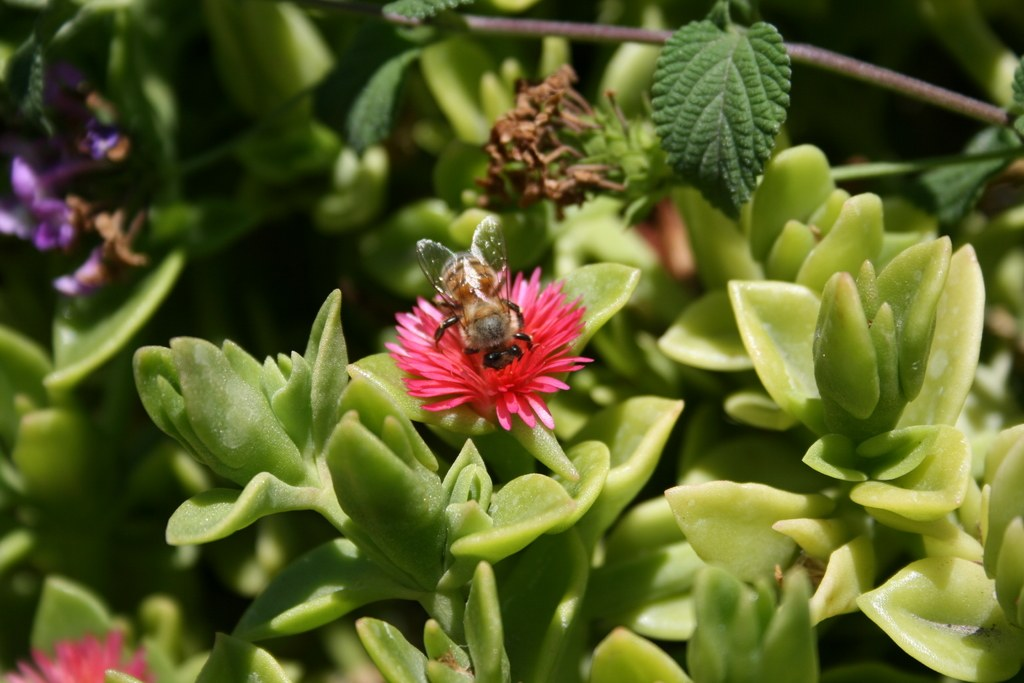bee: (427, 253, 540, 381)
insect: (0, 51, 166, 302), (383, 267, 595, 434), (5, 623, 154, 682)
